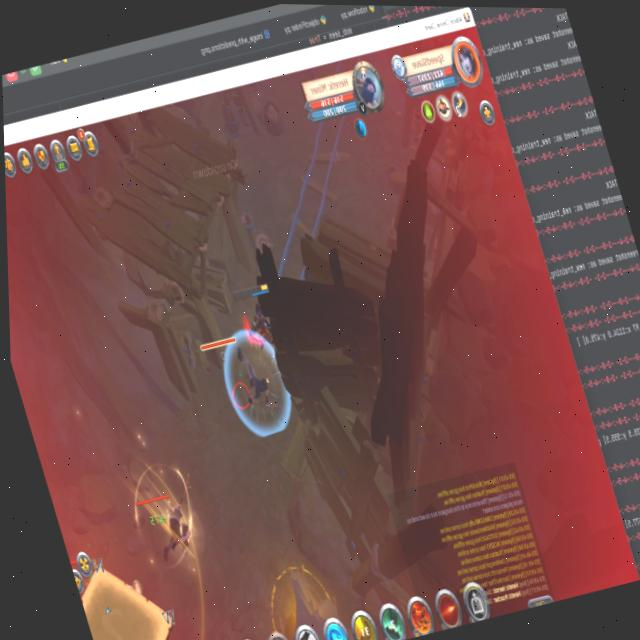ore: (128, 479, 205, 576), (198, 327, 272, 426)
red: (228, 277, 288, 361)
